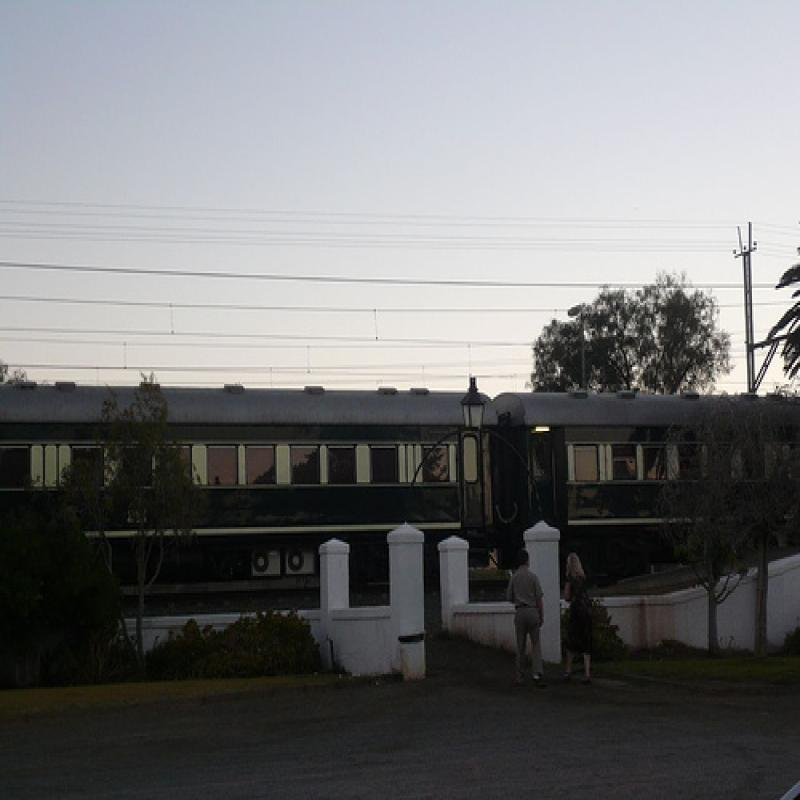train: (1, 382, 799, 583)
